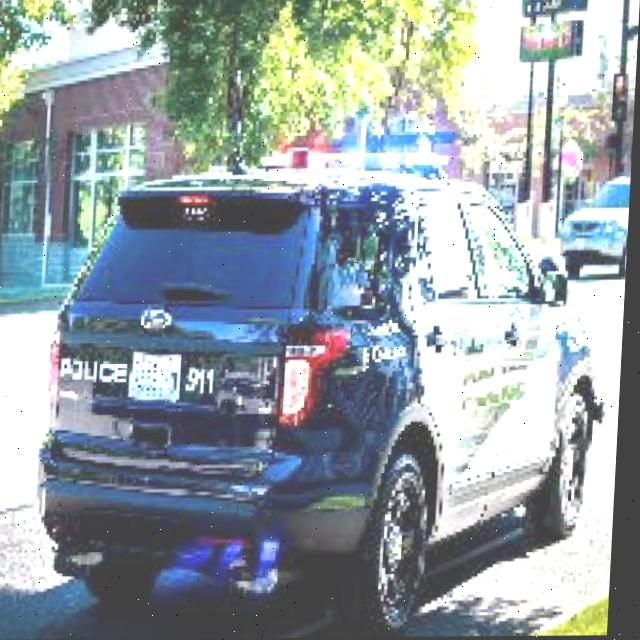emergency: (34, 162, 621, 640)
